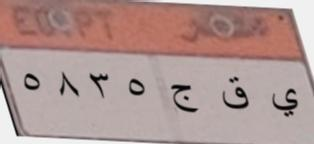3: (84, 68, 113, 107)
5: (18, 66, 42, 96), (125, 72, 146, 100)
8: (54, 66, 82, 107)
jeem: (166, 78, 200, 117)
qaaf: (219, 72, 251, 117)
yaa: (267, 81, 303, 122)
